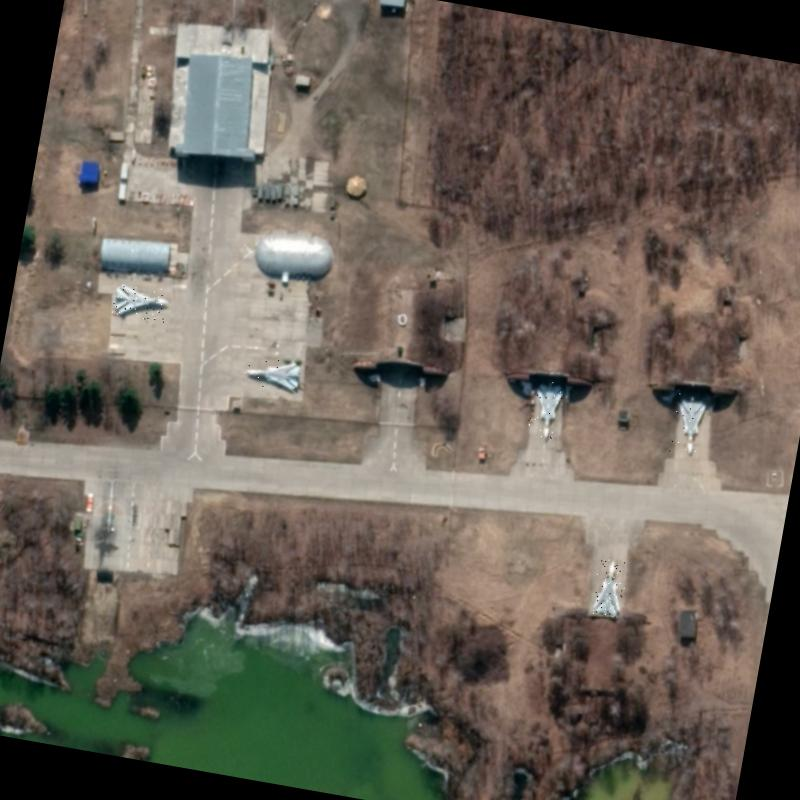A20: (588, 555, 630, 619), (668, 392, 708, 457), (526, 376, 566, 440), (242, 352, 304, 393), (110, 281, 170, 323)
